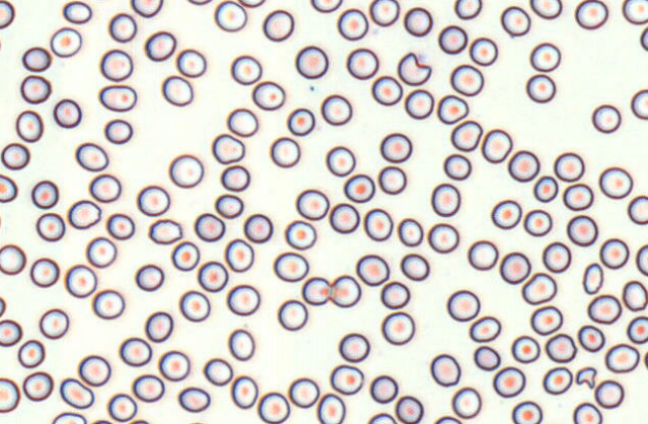RBC: (168, 153, 203, 188), (381, 311, 415, 345), (598, 166, 633, 199), (355, 253, 389, 286), (64, 264, 97, 298), (99, 48, 133, 81), (59, 377, 94, 409), (521, 272, 556, 304), (295, 45, 328, 78), (295, 188, 329, 220), (446, 289, 480, 321), (329, 364, 364, 395), (273, 251, 308, 282), (481, 128, 512, 163), (329, 274, 361, 307), (257, 391, 290, 423), (499, 251, 531, 284), (214, 0, 247, 32), (78, 354, 111, 386), (450, 64, 483, 96), (507, 149, 539, 182), (136, 185, 170, 216), (226, 284, 260, 315), (98, 84, 137, 111), (587, 294, 622, 324), (604, 343, 639, 373), (85, 236, 117, 268), (450, 119, 482, 151), (346, 47, 378, 79), (262, 9, 294, 41), (566, 214, 598, 246), (492, 366, 525, 397), (211, 133, 244, 164), (49, 26, 82, 57), (92, 288, 125, 319), (379, 132, 412, 163), (67, 199, 101, 229), (224, 238, 254, 272), (363, 207, 393, 241), (251, 80, 285, 110), (430, 182, 460, 216), (197, 260, 228, 292), (284, 219, 316, 250), (179, 290, 210, 322), (161, 75, 193, 106), (158, 350, 190, 381), (337, 8, 368, 40), (144, 30, 176, 61), (230, 54, 262, 85), (427, 222, 459, 253), (320, 94, 352, 125), (530, 305, 563, 335), (430, 353, 460, 386), (119, 336, 152, 366), (574, 0, 608, 29), (277, 299, 308, 330), (269, 136, 300, 167), (288, 377, 319, 408), (467, 239, 498, 270), (553, 151, 584, 182), (451, 386, 481, 418), (226, 107, 258, 137), (343, 173, 375, 203), (338, 332, 370, 362), (490, 199, 522, 229), (599, 237, 629, 269), (529, 42, 561, 72), (75, 142, 108, 171), (230, 375, 258, 409), (22, 371, 53, 401), (371, 75, 402, 105), (545, 333, 576, 363), (329, 202, 359, 233), (437, 94, 468, 124), (404, 88, 434, 119), (325, 145, 355, 176), (39, 308, 69, 339), (500, 5, 530, 36), (525, 73, 556, 103), (89, 173, 121, 202), (542, 241, 571, 273), (15, 109, 43, 142), (107, 392, 137, 422), (243, 213, 273, 243), (29, 257, 59, 287), (437, 24, 467, 54), (591, 103, 621, 133), (316, 392, 345, 423), (171, 240, 200, 271), (194, 212, 225, 241), (175, 48, 206, 77), (144, 311, 173, 342), (20, 74, 51, 103), (132, 374, 164, 402), (148, 218, 182, 244), (203, 357, 233, 386), (542, 366, 572, 395), (594, 379, 624, 408), (35, 212, 65, 241), (380, 280, 410, 309), (108, 12, 137, 42), (403, 6, 432, 36), (469, 36, 498, 66), (562, 182, 593, 210), (469, 315, 501, 342), (177, 386, 210, 412), (301, 276, 330, 305), (286, 107, 315, 136), (369, 374, 398, 403), (377, 165, 406, 194), (53, 98, 81, 128), (0, 243, 26, 275), (228, 328, 254, 360), (511, 335, 540, 363), (135, 263, 164, 291), (394, 395, 423, 423), (17, 339, 45, 368), (0, 142, 29, 170), (523, 208, 552, 236), (400, 253, 429, 281), (106, 212, 135, 240), (220, 164, 250, 191), (31, 179, 58, 209), (577, 324, 605, 352), (369, 0, 399, 26), (103, 118, 133, 144), (21, 46, 51, 72), (622, 280, 647, 311), (443, 153, 471, 180), (397, 217, 423, 246), (214, 193, 243, 218), (62, 0, 92, 24), (511, 400, 542, 423), (582, 262, 604, 294), (473, 345, 500, 371), (0, 377, 20, 412), (533, 175, 558, 202), (572, 402, 602, 423), (529, 0, 562, 19), (0, 318, 22, 346), (626, 315, 647, 344), (622, 0, 647, 24), (627, 195, 647, 224), (130, 0, 163, 17), (454, 0, 482, 19), (630, 88, 647, 119), (0, 174, 17, 202), (0, 0, 15, 29), (51, 411, 86, 423), (635, 244, 647, 276), (310, 0, 342, 12), (367, 412, 396, 423), (433, 415, 462, 423), (238, 0, 265, 7), (640, 26, 647, 51), (0, 295, 6, 317), (186, 0, 212, 5), (127, 418, 149, 423), (643, 350, 648, 370), (89, 419, 112, 423), (184, 421, 207, 424), (0, 31, 2, 54)
Schistocyte: (397, 53, 432, 86), (576, 367, 597, 390)
